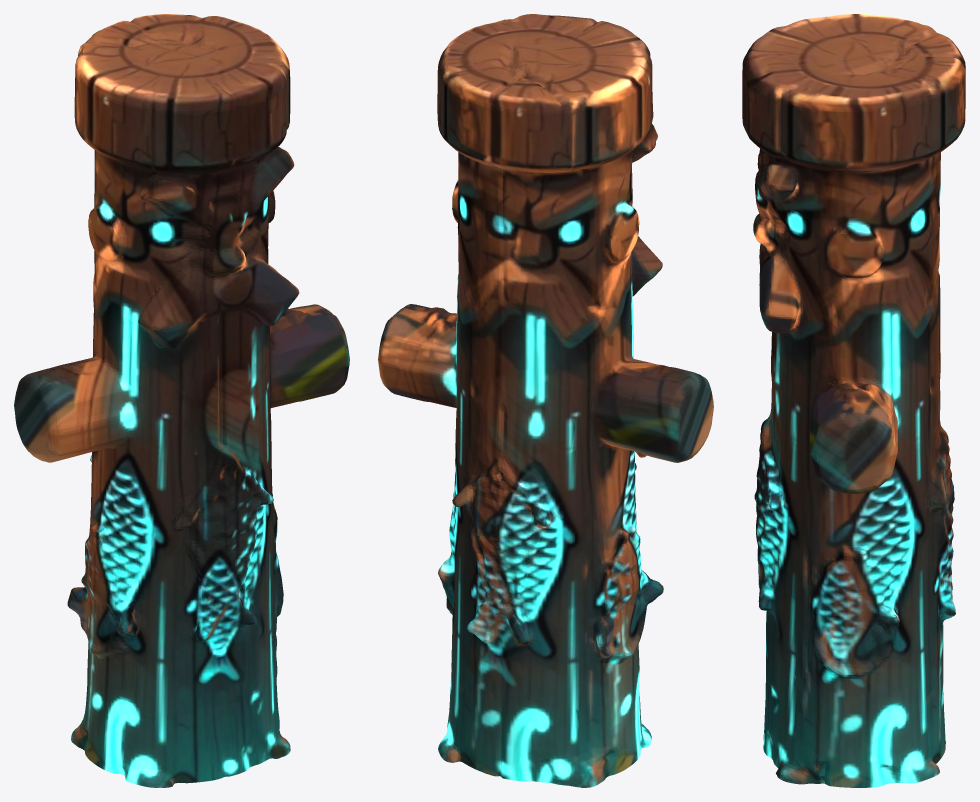
The model's file is idol_water.glb.
3 views of the same model, side by side, from view 1: azimuth 30°, elevation 25°; view 2: azimuth 150°, elevation 25°; view 3: azimuth 270°, elevation 25° (orthographic).
Parts seen in each view (by area): view 1: idol_water; view 2: idol_water; view 3: idol_water.
Part boxes in pixels (left/top/right/bottom): idol_water: left=14, top=14, right=349, bottom=787; idol_water: left=378, top=14, right=713, bottom=787; idol_water: left=742, top=14, right=965, bottom=787.
Size of the model in its own units: 1.08 by 2.36 by 0.6938.
Materials: 1 (1 with a texture image).
